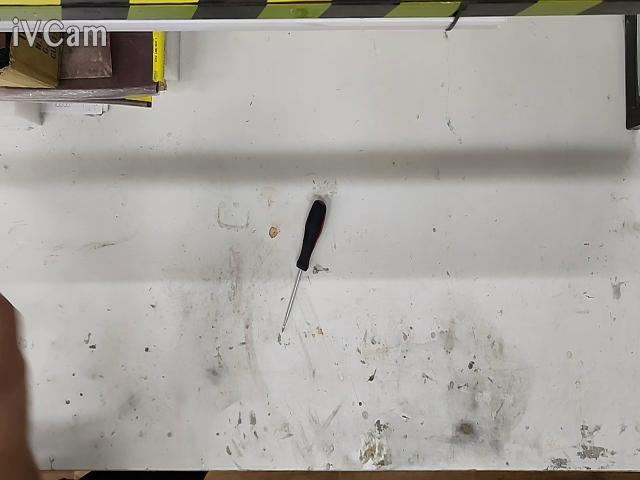Screwdriver: (281, 200, 326, 332)
